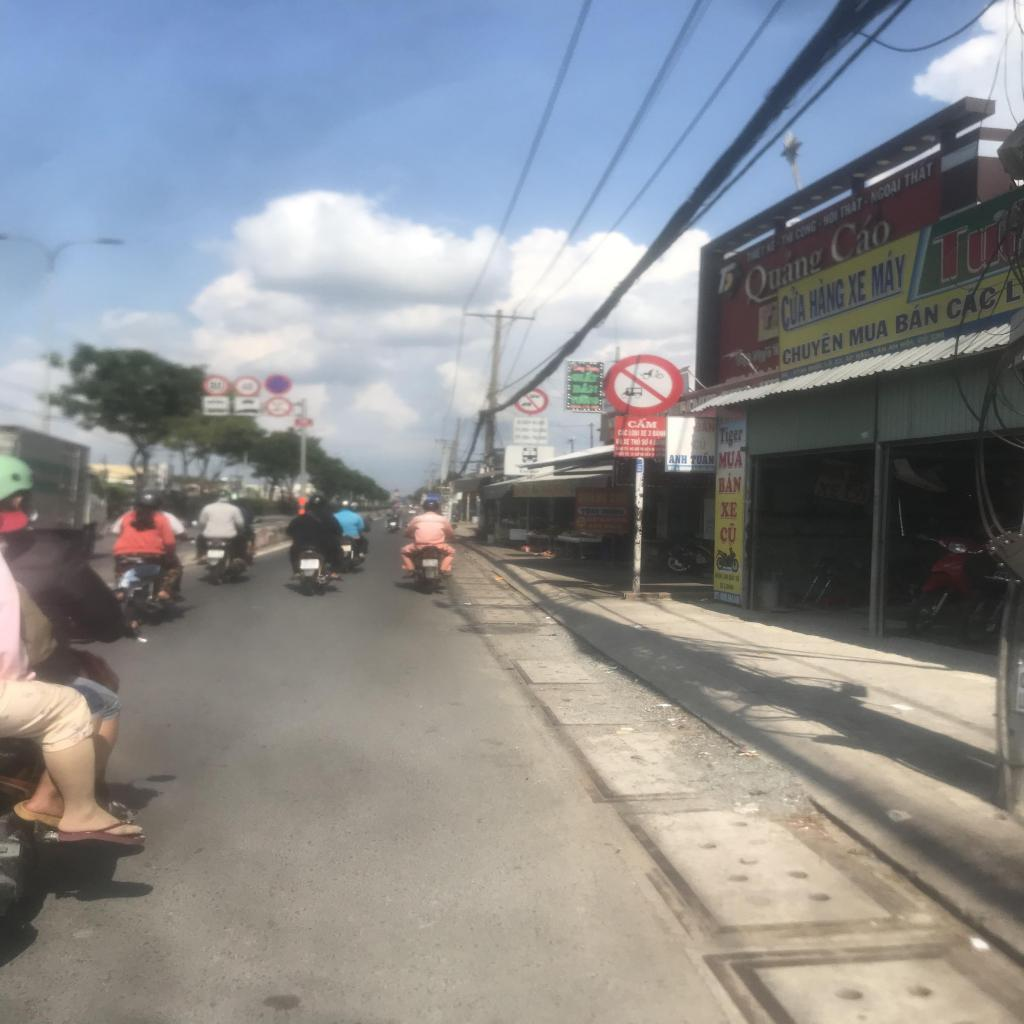cam_cac_loai_xe_3_banh: (602, 354, 684, 416)
cam_dung_xe_va_do_xe: (264, 374, 292, 396)
cam_o_to_tai_va_xe_khach: (513, 388, 550, 414)
cam_xe_2_banh_va_xe_3_banh_co_dong_co: (264, 396, 293, 418)
khac: (504, 446, 554, 475), (512, 416, 548, 445), (202, 397, 230, 406), (204, 407, 228, 415), (234, 398, 258, 406), (234, 408, 258, 416)
toc_do_toi_da_60: (233, 377, 260, 397)
toc_do_toi_da_80: (202, 374, 230, 396)
